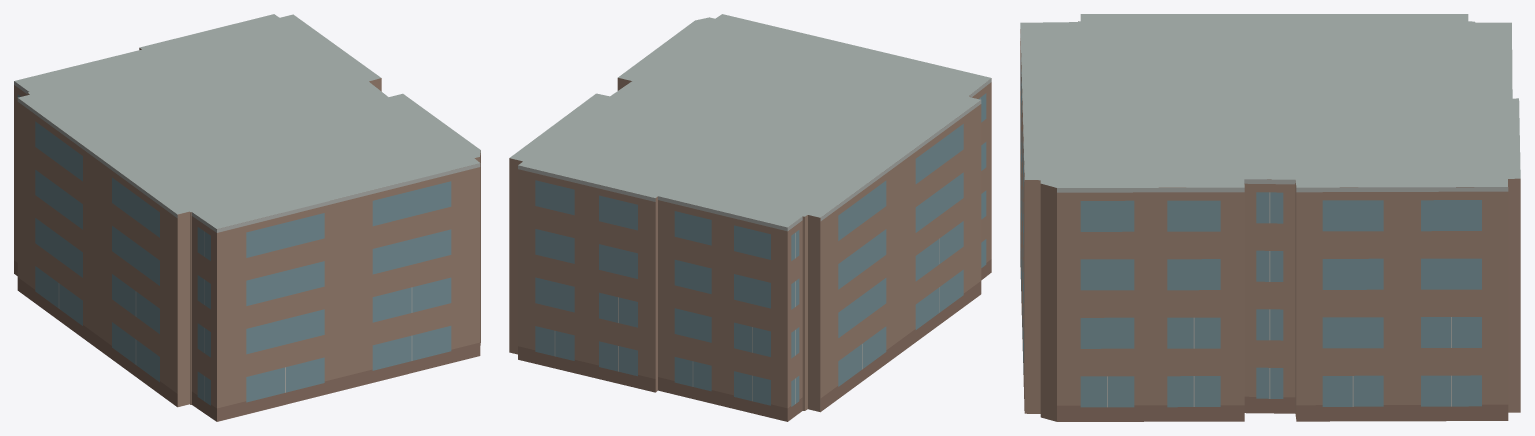
The model's file is survey-upis-32670920.glb.
The picture shows the model from 3 angles, left to right: view 1: azimuth 30°, elevation 25°; view 2: azimuth 150°, elevation 25°; view 3: azimuth 270°, elevation 25°; orthographic projection. The views are drawn at different scales.
Parts seen in each view (by area): view 1: survey-upis-32670920.tmp; view 2: survey-upis-32670920.tmp; view 3: survey-upis-32670920.tmp.
Part boxes in pixels (left/top/right/bottom): survey-upis-32670920.tmp: left=14, top=14, right=480, bottom=421; survey-upis-32670920.tmp: left=509, top=14, right=991, bottom=421; survey-upis-32670920.tmp: left=1020, top=14, right=1520, bottom=421.
Bounding box in the file's own units: 19.63 × 12.3 × 23.86.
